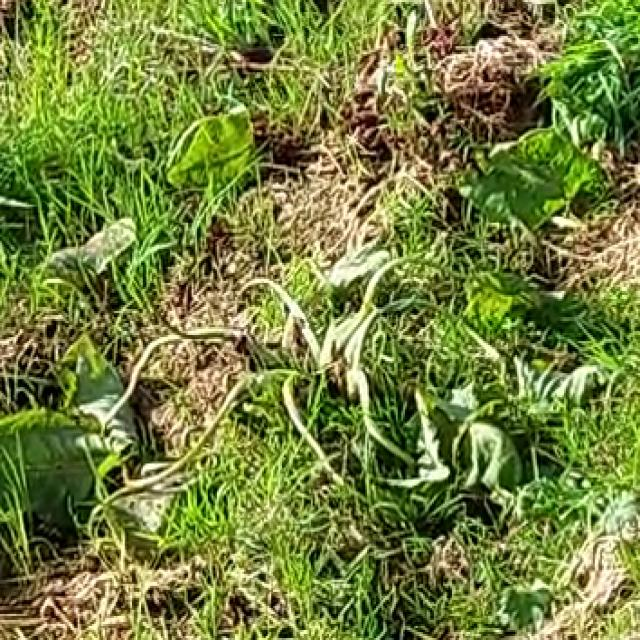organic waste: (5, 100, 615, 540)
